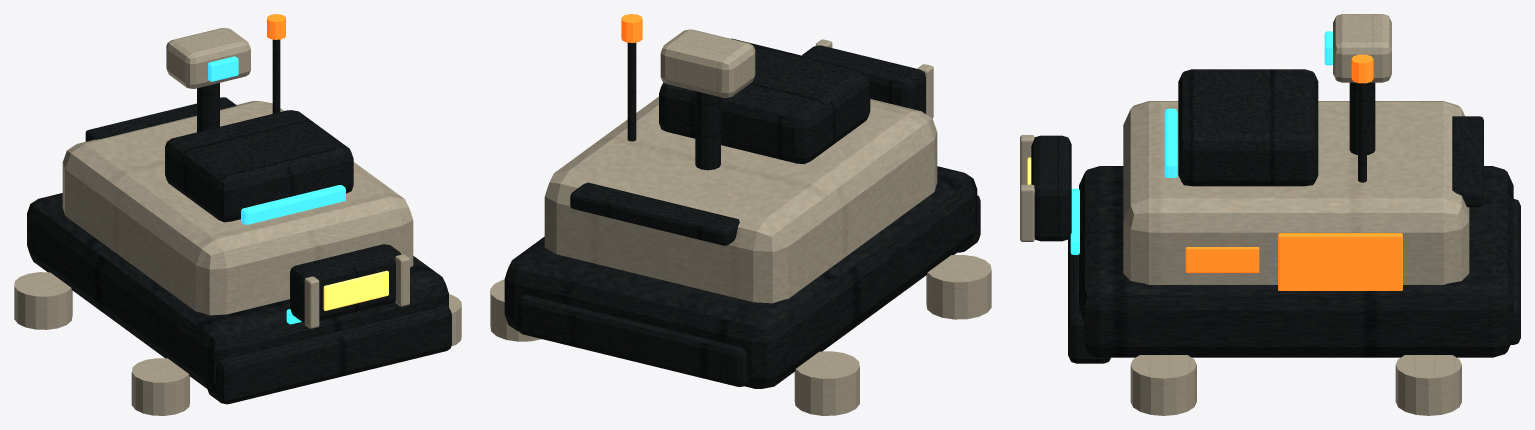
File: mars_scout_rover.glb
3 views of the same model, side by side, from view 1: azimuth 30°, elevation 25°; view 2: azimuth 150°, elevation 25°; view 3: azimuth 270°, elevation 25° (orthographic). The views are drawn at different scales.
Visible parts, largest first — view 1: Rover_Body, Rover_Chassis, Rover_SensorCanopy, Rover_Front_Bumper, Rover_FlashlightHousing, Rover_SensorHead, Wheel_FL_Hub, Wheel_RL_Hub, Rover_FrontSensor, Rover_FlashlightLens, Rover_CargoDeck, Rover_SensorMast (+6 smaller); view 2: Rover_Body, Rover_Chassis, Rover_SensorCanopy, Rover_Rear_Bumper, Rover_SensorHead, Rover_CargoDeck, Wheel_FL_Hub, Wheel_RL_Hub, Rover_FlashlightHousing, Rover_SensorMast, Wheel_RR_Hub, Rover_Antenna (+2 smaller); view 3: Rover_Chassis, Rover_Body, Rover_SensorCanopy, Rover_ServicePanel, Rover_FlashlightHousing, Wheel_RR_Hub, Wheel_FR_Hub, Rover_SensorHead, Rover_CargoDeck, Rover_UnitPlaque, Rover_Front_Bumper, Rover_SensorMast (+7 smaller).
Part boxes in pixels (left/top/right/bottom): Rover_Body: left=62, top=101, right=413, bottom=315; Rover_Chassis: left=27, top=193, right=448, bottom=390; Rover_SensorCanopy: left=165, top=110, right=353, bottom=222; Rover_Front_Bumper: left=207, top=305, right=451, bottom=404; Rover_FlashlightHousing: left=290, top=244, right=401, bottom=322; Rover_SensorHead: left=166, top=27, right=250, bottom=88; Wheel_FL_Hub: left=131, top=358, right=189, bottom=415; Wheel_RL_Hub: left=14, top=272, right=72, bottom=329; Rover_FrontSensor: left=241, top=185, right=345, bottom=224; Rover_FlashlightLens: left=323, top=270, right=388, bottom=310; Rover_CargoDeck: left=85, top=97, right=236, bottom=141; Rover_SensorMast: left=197, top=83, right=219, bottom=132; Rover_Body: left=544, top=96, right=937, bottom=303; Rover_Chassis: left=504, top=166, right=977, bottom=388; Rover_SensorCanopy: left=659, top=38, right=870, bottom=164; Rover_Rear_Bumper: left=518, top=294, right=748, bottom=386; Rover_SensorHead: left=660, top=29, right=755, bottom=97; Rover_CargoDeck: left=570, top=182, right=739, bottom=245; Wheel_FL_Hub: left=926, top=255, right=991, bottom=319; Wheel_RL_Hub: left=794, top=351, right=859, bottom=415; Rover_FlashlightHousing: left=802, top=45, right=925, bottom=113; Rover_SensorMast: left=695, top=91, right=720, bottom=170; Wheel_RR_Hub: left=490, top=279, right=541, bottom=341; Rover_Antenna: left=627, top=42, right=636, bottom=141; Rover_Chassis: left=1079, top=166, right=1513, bottom=357; Rover_Body: left=1123, top=101, right=1469, bottom=284; Rover_SensorCanopy: left=1178, top=69, right=1318, bottom=186; Rover_ServicePanel: left=1278, top=233, right=1402, bottom=290; Rover_FlashlightHousing: left=1031, top=135, right=1071, bottom=241; Wheel_RR_Hub: left=1395, top=355, right=1461, bottom=415; Wheel_FR_Hub: left=1130, top=355, right=1196, bottom=415; Rover_SensorHead: left=1333, top=14, right=1391, bottom=82; Rover_CargoDeck: left=1452, top=116, right=1483, bottom=207; Rover_UnitPlaque: left=1185, top=247, right=1259, bottom=272; Rover_Front_Bumper: left=1068, top=235, right=1110, bottom=363; Rover_SensorMast: left=1349, top=82, right=1375, bottom=154.
Bounding box in the file's own units: 1.14 × 0.916 × 1.36.
6 materials, 2 textured.
